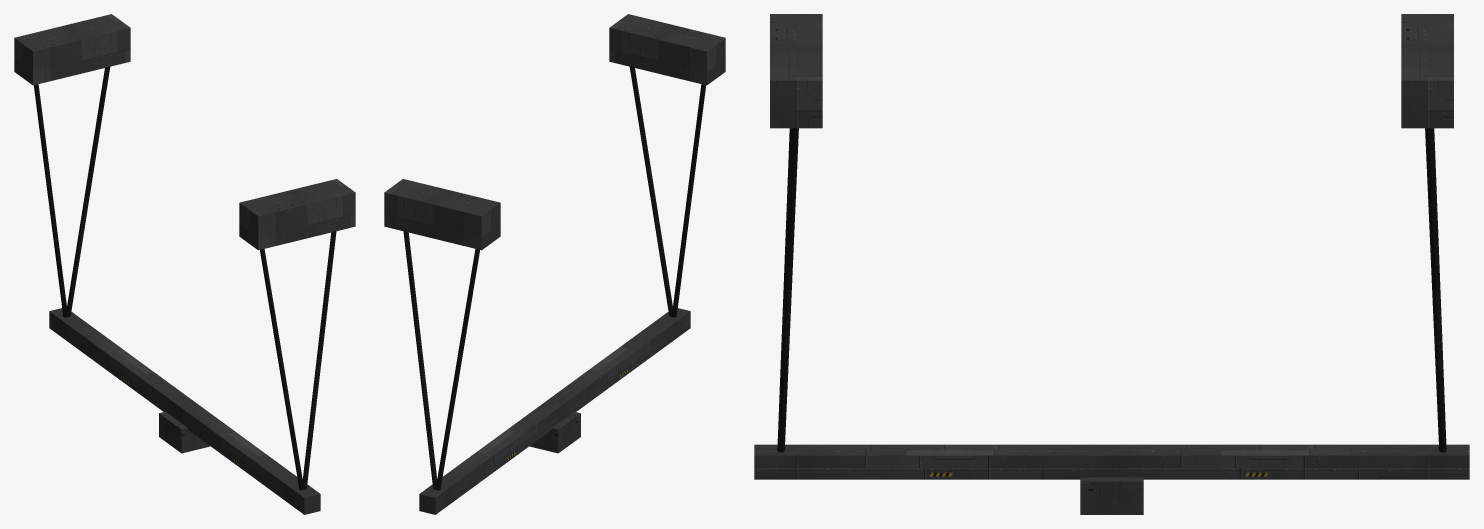
Rendered from freighter_sling.glb.
The picture shows the model from 3 angles, left to right: view 1: azimuth 30°, elevation 25°; view 2: azimuth 150°, elevation 25°; view 3: azimuth 270°, elevation 25°; orthographic projection. The views are drawn at different scales.
Parts seen in each view (by area): view 1: spreader_bar, hardpoint_-6, hardpoint_+6, cable_+1.2_+6, cable_+1.2_-6, cable_-1.2_+6, cable_-1.2_-6, hook; view 2: spreader_bar, hardpoint_+6, hardpoint_-6, cable_+1.2_-6, cable_+1.2_+6, cable_-1.2_-6, cable_-1.2_+6, hook; view 3: spreader_bar, hardpoint_+6, hardpoint_-6, cable_+1.2_+6, cable_+1.2_-6, hook.
Boxes of the visible parts, bbox=[...] form: spreader_bar: bbox=[49, 308, 320, 514]; hardpoint_-6: bbox=[14, 14, 130, 85]; hardpoint_+6: bbox=[239, 179, 355, 250]; cable_+1.2_+6: bbox=[302, 231, 336, 489]; cable_+1.2_-6: bbox=[67, 67, 110, 316]; cable_-1.2_+6: bbox=[260, 249, 303, 490]; cable_-1.2_-6: bbox=[34, 84, 67, 317]; hook: bbox=[159, 411, 210, 453]; spreader_bar: bbox=[419, 308, 690, 514]; hardpoint_+6: bbox=[609, 14, 725, 85]; hardpoint_-6: bbox=[384, 179, 500, 250]; cable_+1.2_-6: bbox=[403, 231, 437, 489]; cable_+1.2_+6: bbox=[629, 67, 672, 316]; cable_-1.2_-6: bbox=[436, 249, 479, 490]; cable_-1.2_+6: bbox=[672, 84, 705, 317]; hook: bbox=[529, 411, 580, 453]; spreader_bar: bbox=[754, 444, 1469, 479]; hardpoint_+6: bbox=[770, 14, 822, 128]; hardpoint_-6: bbox=[1401, 14, 1453, 128]; cable_+1.2_+6: bbox=[777, 128, 798, 452]; cable_+1.2_-6: bbox=[1425, 128, 1446, 452]; hook: bbox=[1080, 477, 1143, 514].
Bounding box in the file's own units: 3 × 9.6 × 13.6.
Materials: 2 (2 with a texture image).
